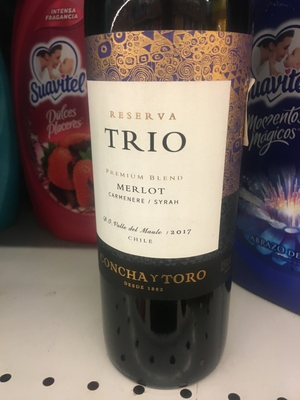trio merlot: (76, 6, 251, 381)
